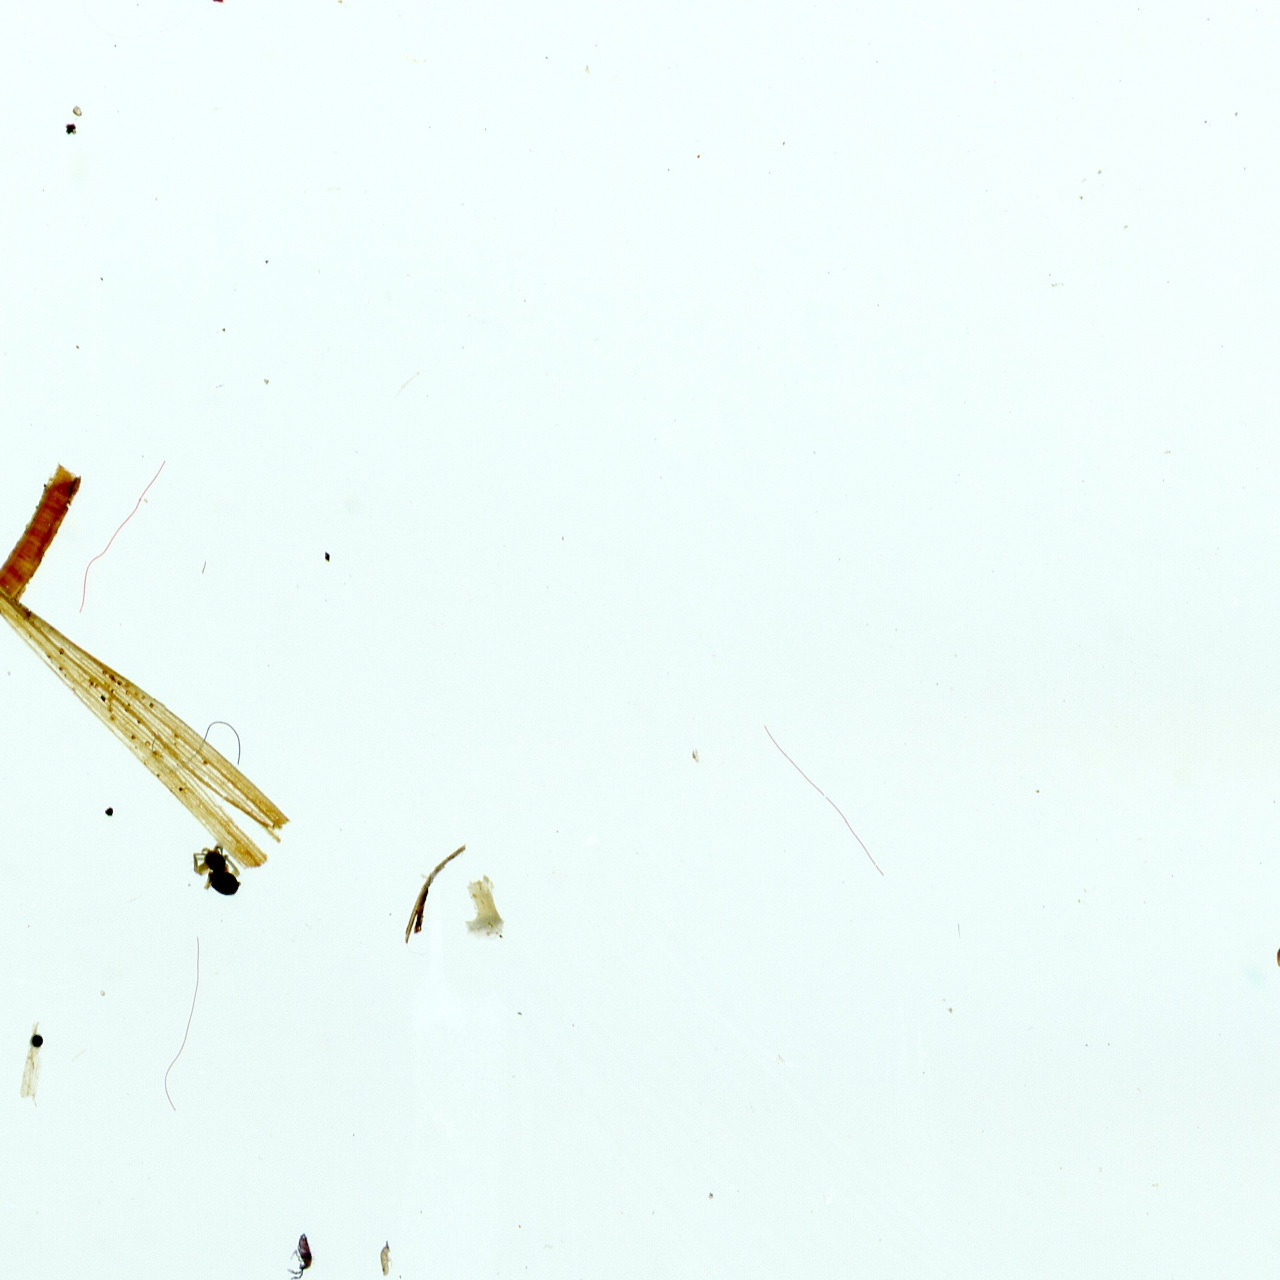arthropod: (186, 839, 251, 901), (284, 1224, 318, 1280), (157, 0, 248, 20), (375, 1233, 397, 1280)
